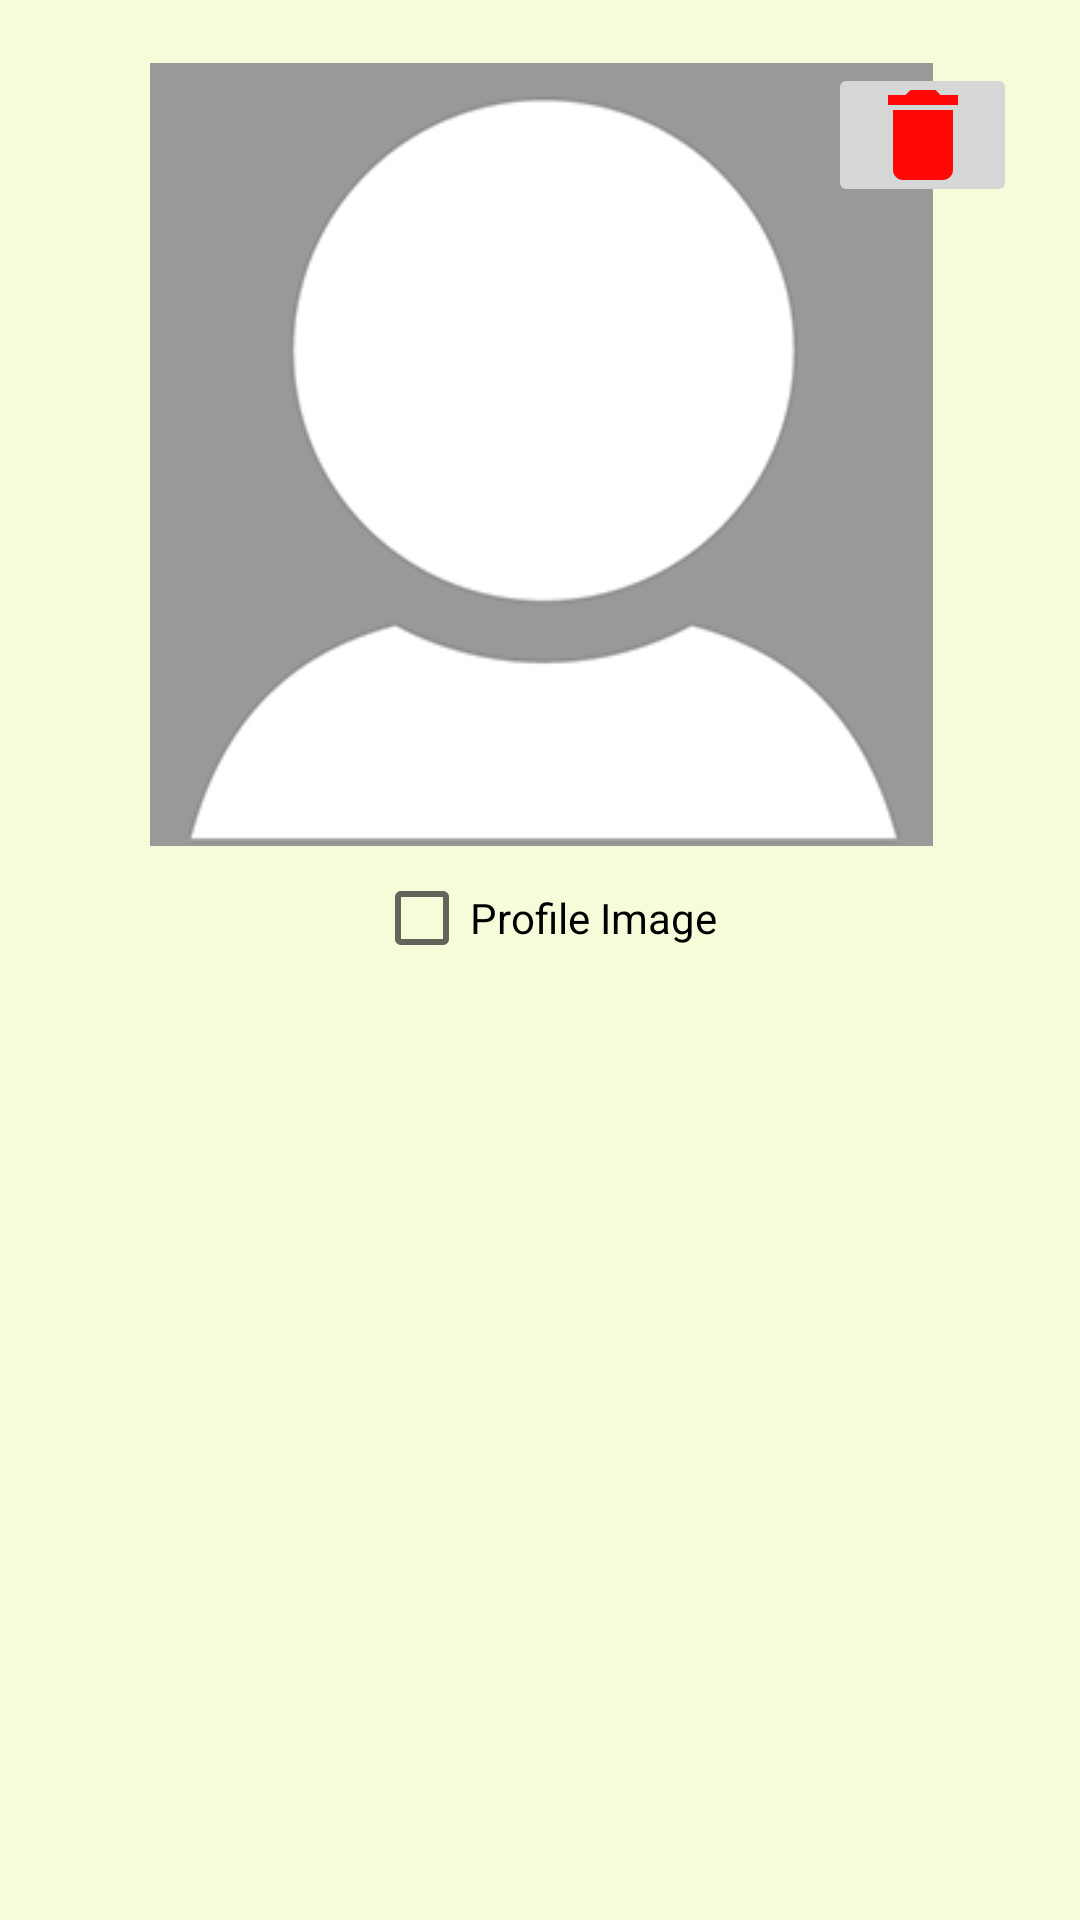

Icon bounding boxes for this 1080x1920 phone screenshot, format (x1, y1, x2, y2):
delete: (828, 63, 1005, 207)
